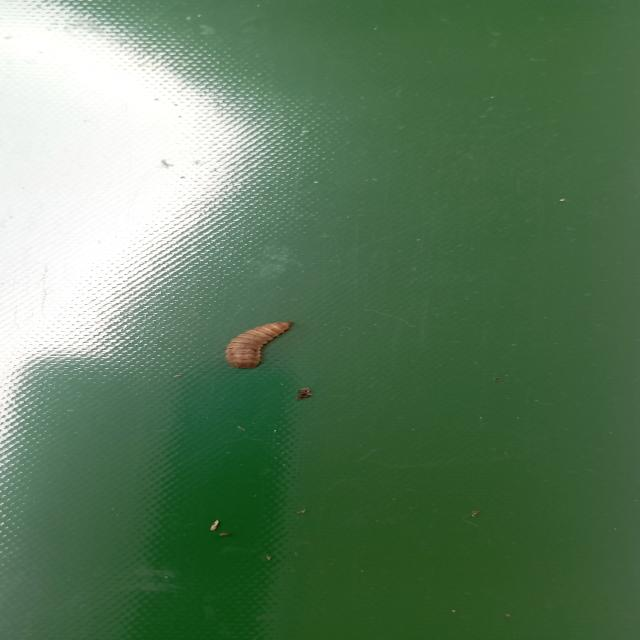Maggot: (232, 324, 287, 365)
